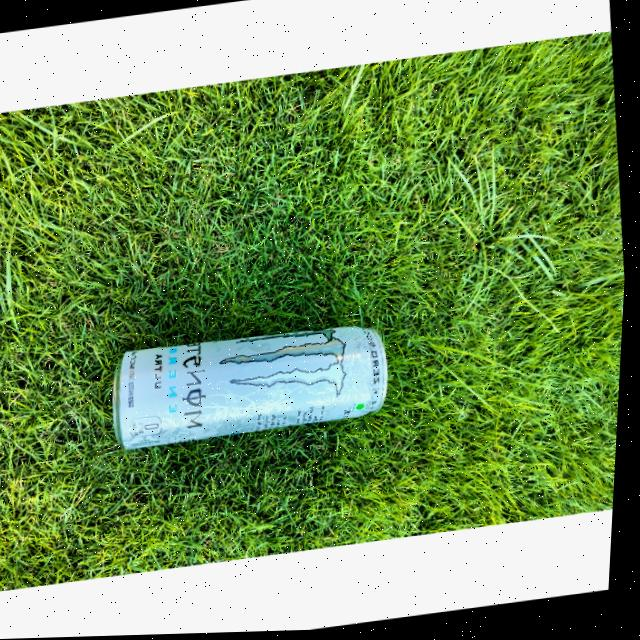White Monster: (111, 318, 396, 456)
